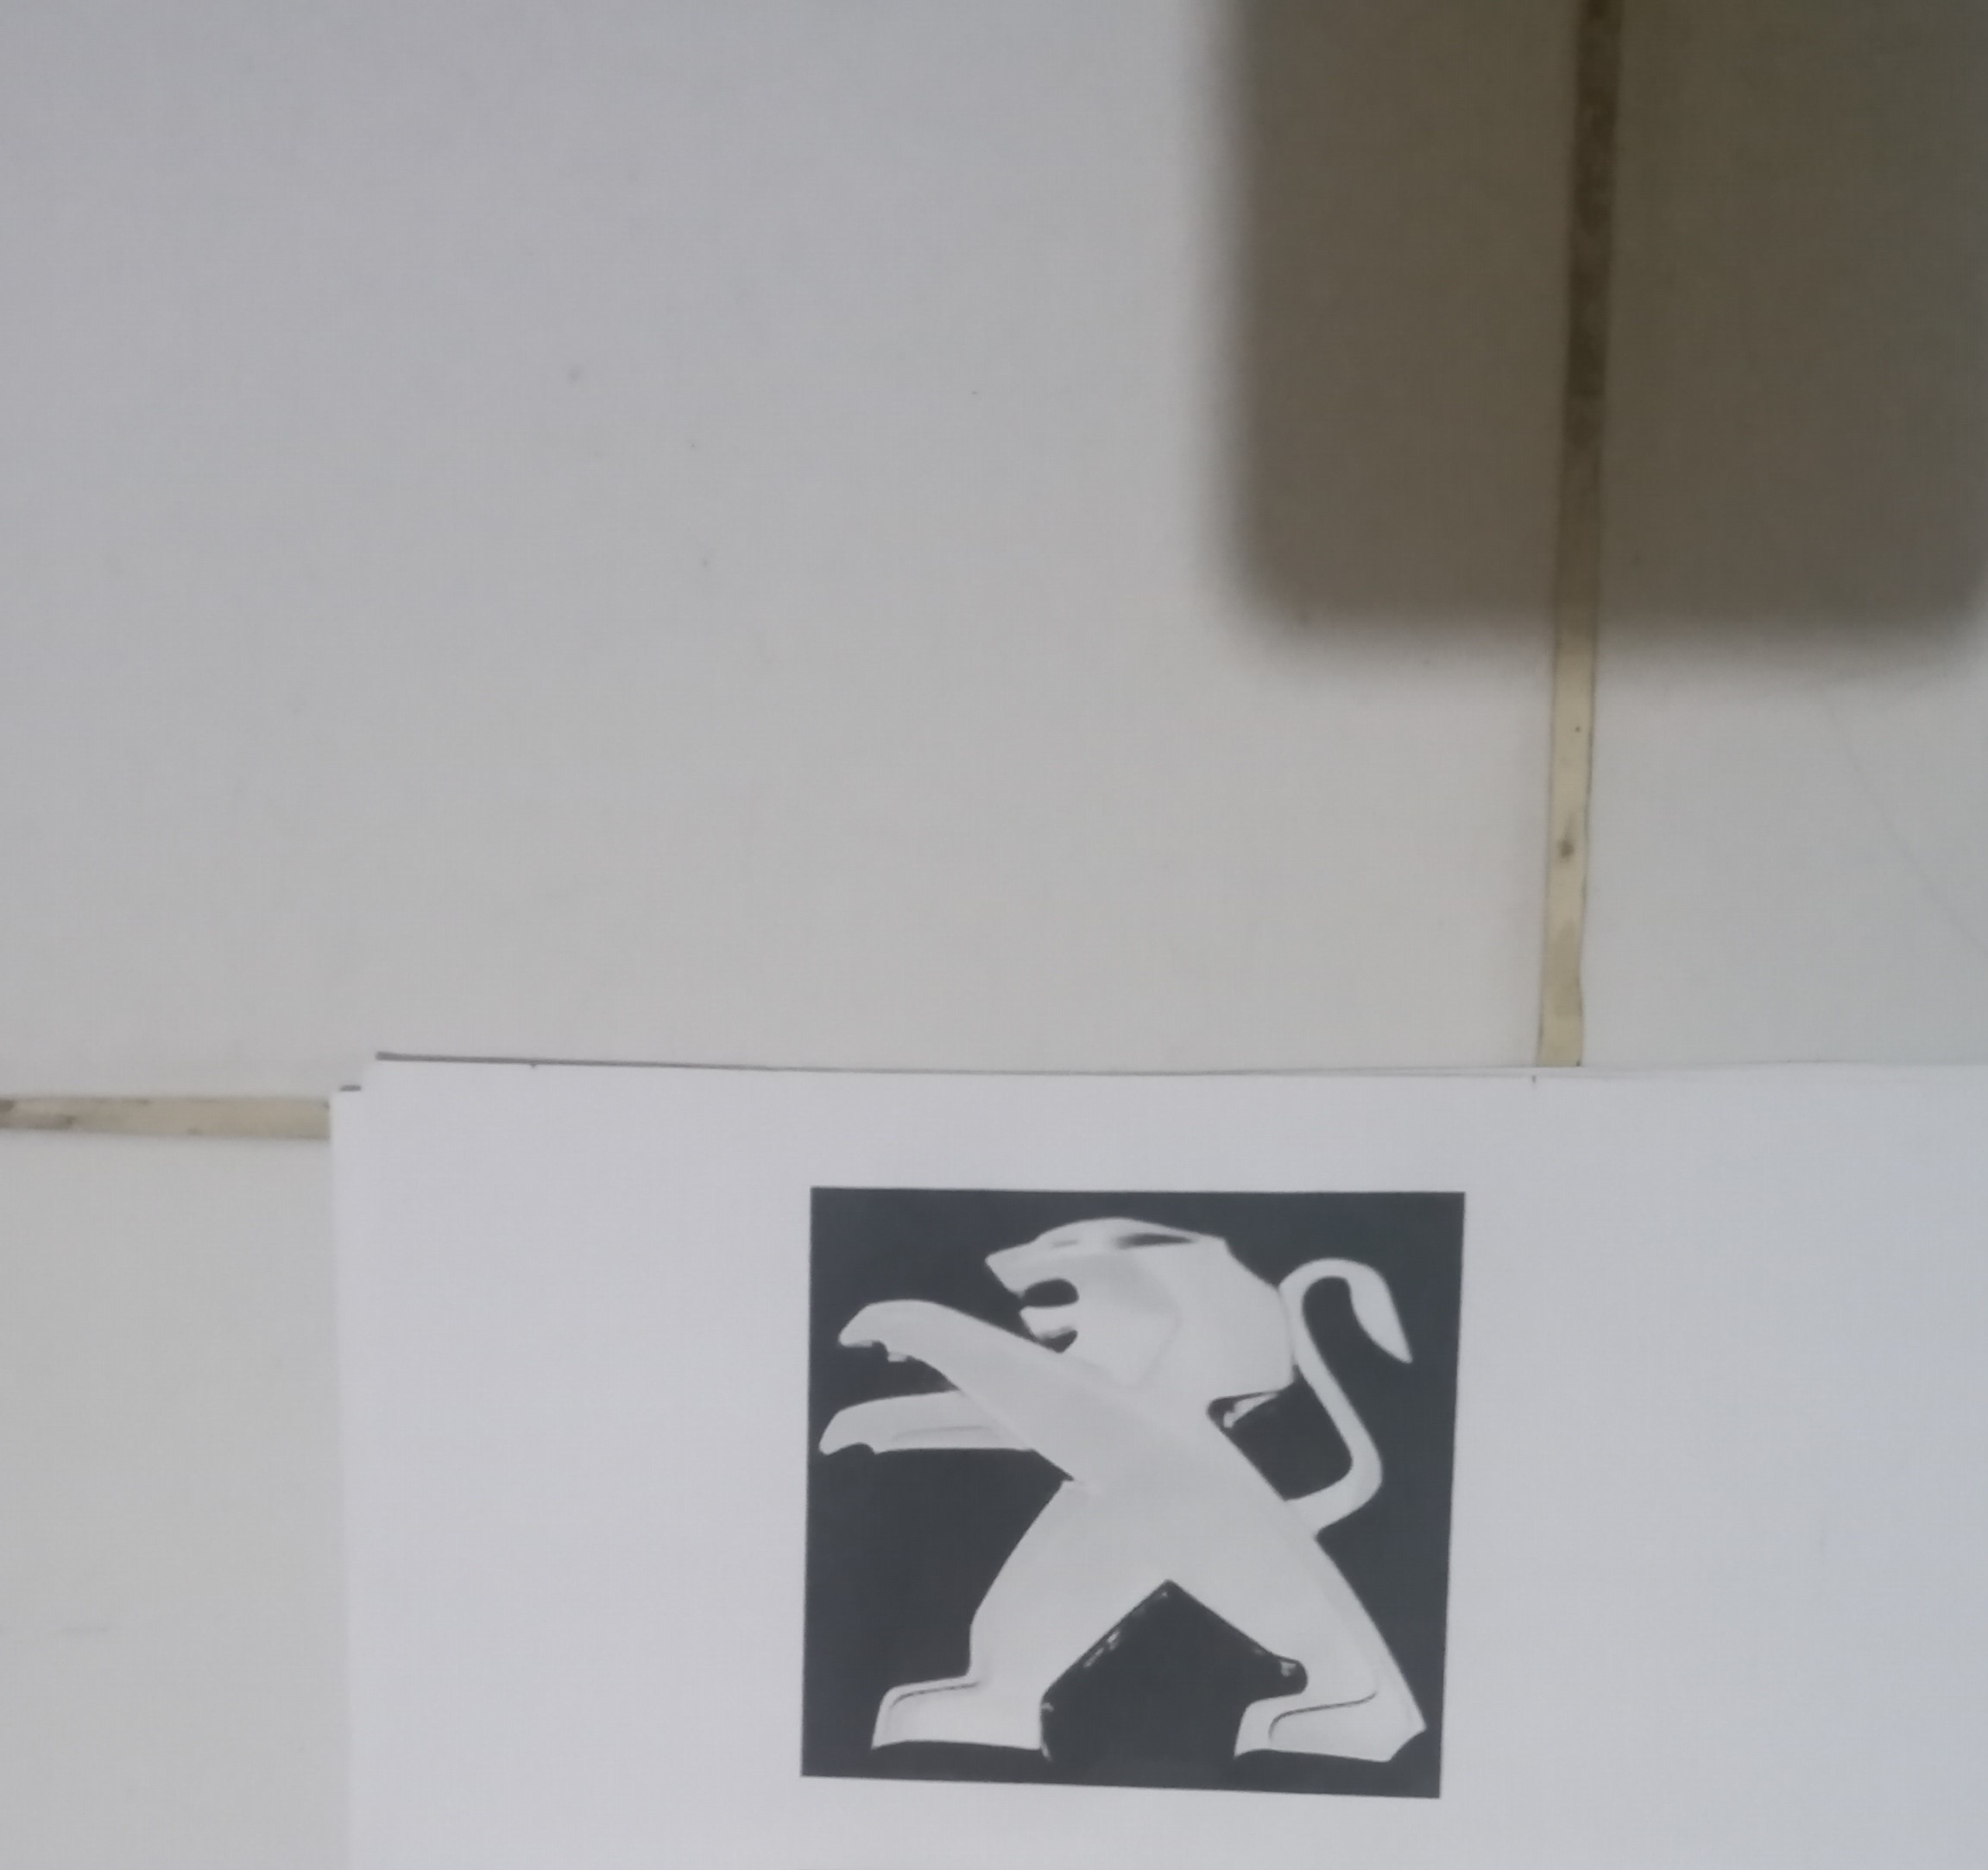Peugeot: (816, 1192, 1445, 1801)
